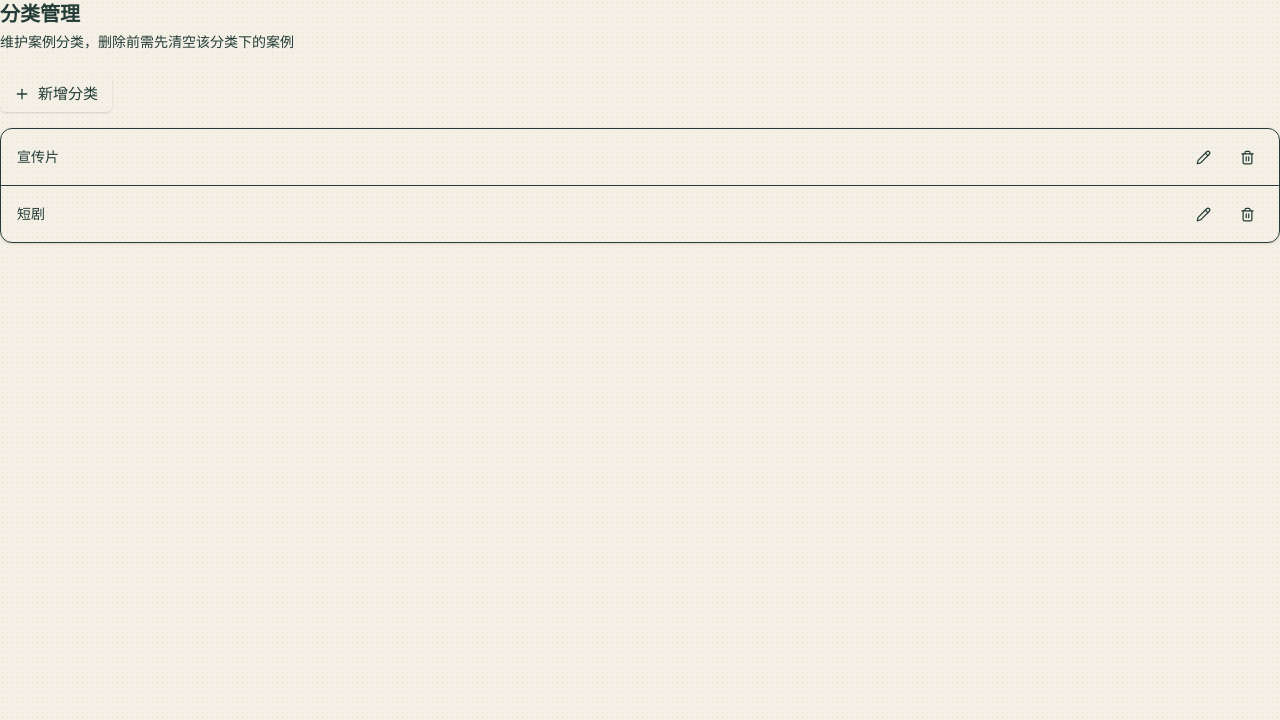
Test case: asks for confirmation before deleting a category
Expected: the text "宣传片" is shown, [17,147,59,166]
Click the button named "删除宣传片". click: (1247, 157)
box: [1231,141,1263,173]
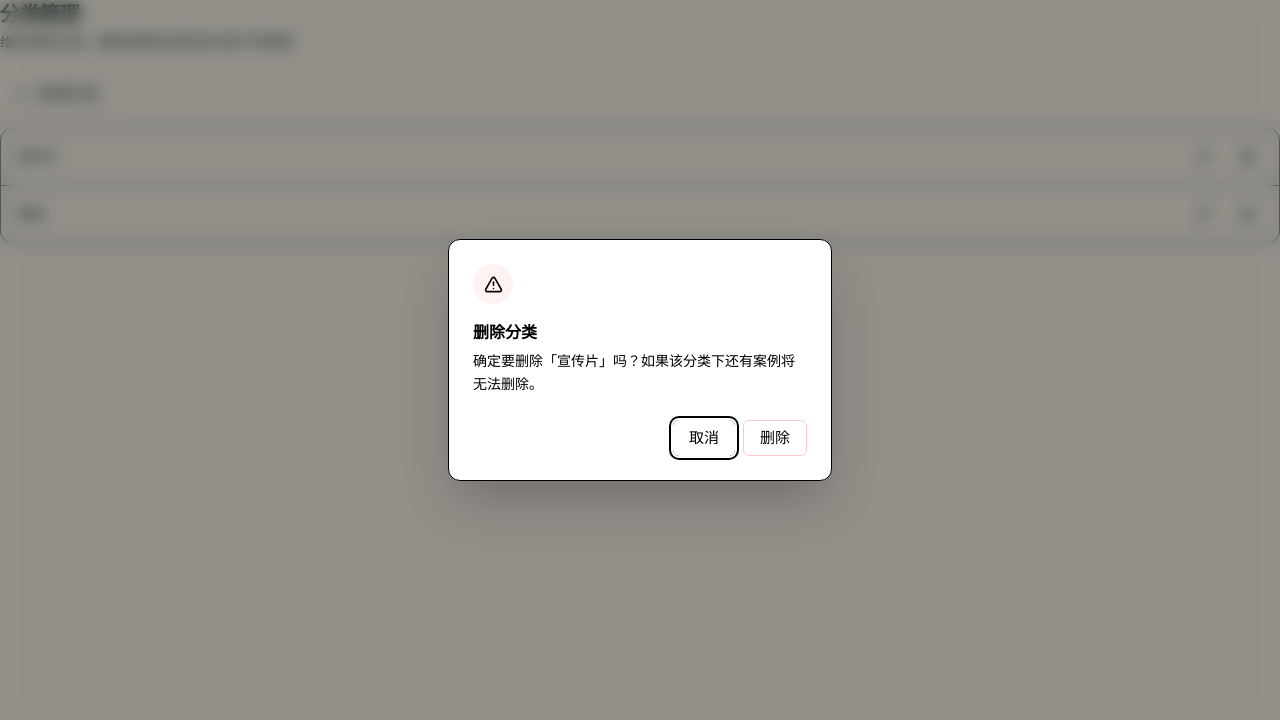
Now the text "确定要删除「宣传片」吗？如果该分类下还有案例将无法删除。" is shown, box [473,350,807,396]
Click the button "删除". click: (775, 438)
box: [743,420,807,456]
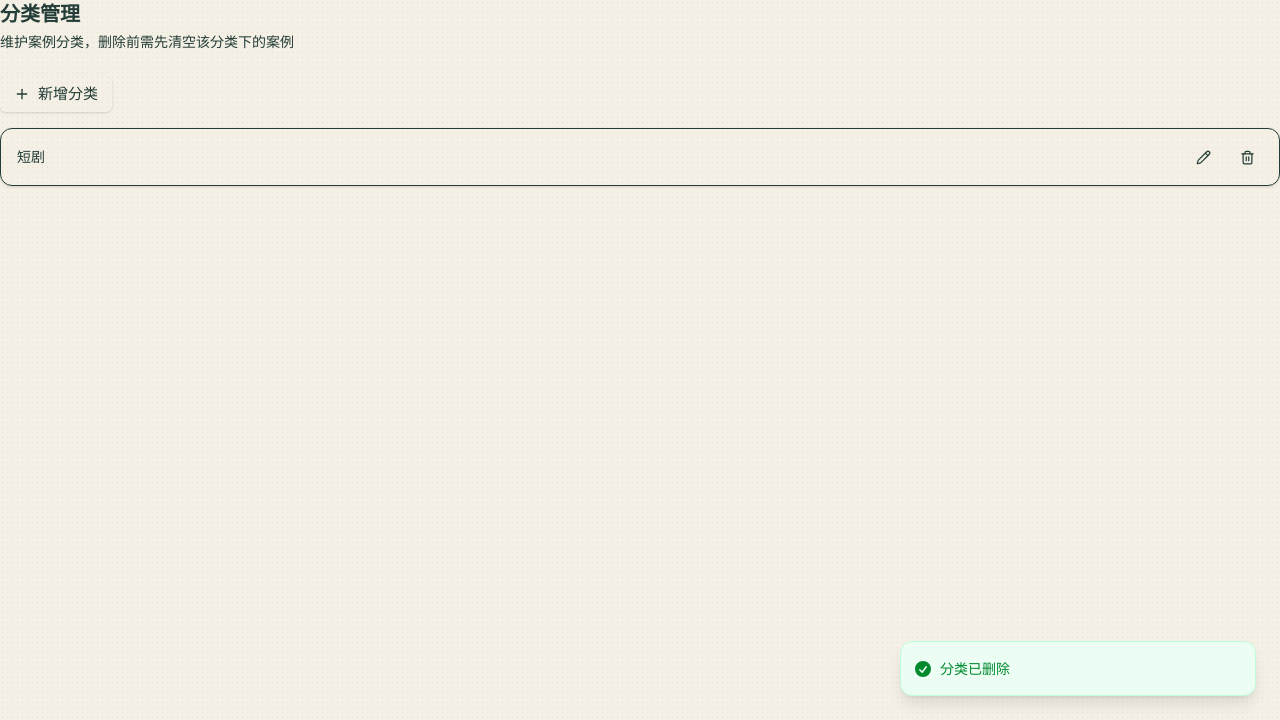
Now the text "宣传片" is gone
